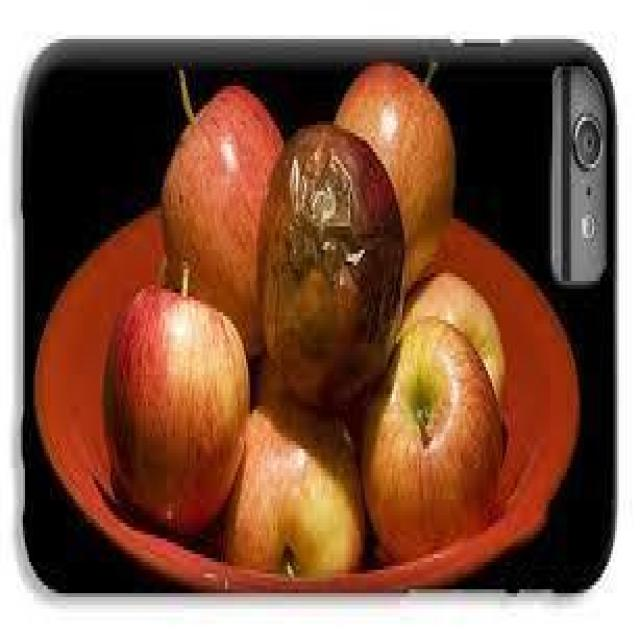maca: (100, 59, 511, 574), (255, 121, 404, 406), (100, 258, 250, 534), (360, 312, 504, 562)
